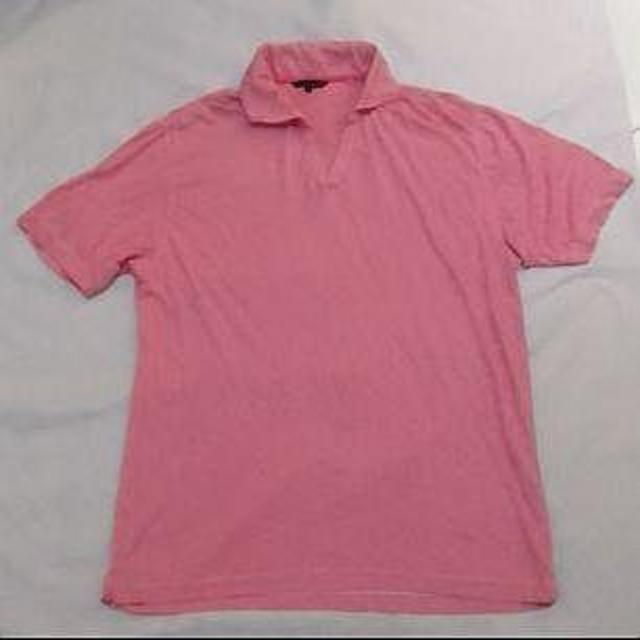T_SHIRT: (9, 27, 640, 620)
